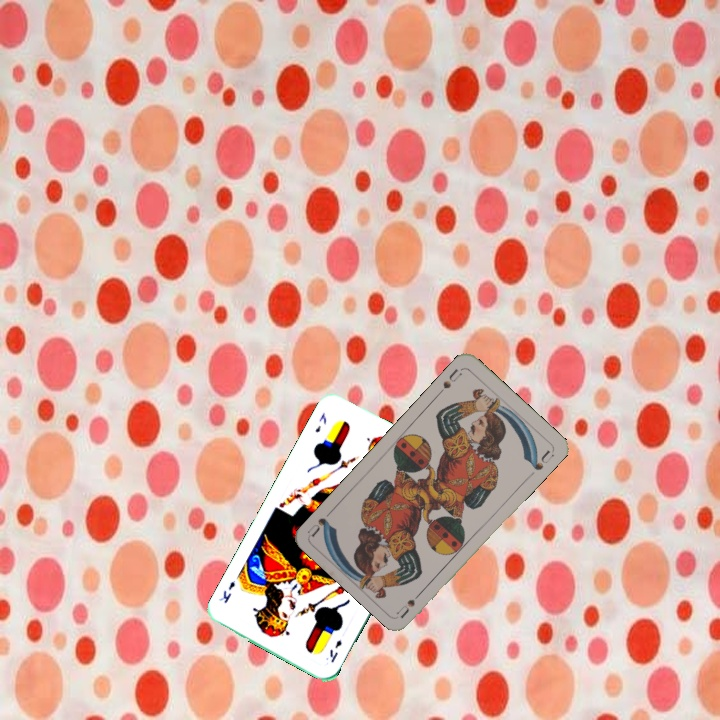EK: (326, 636, 345, 665), (311, 408, 329, 435)
SU: (393, 585, 427, 620), (434, 365, 465, 398)
